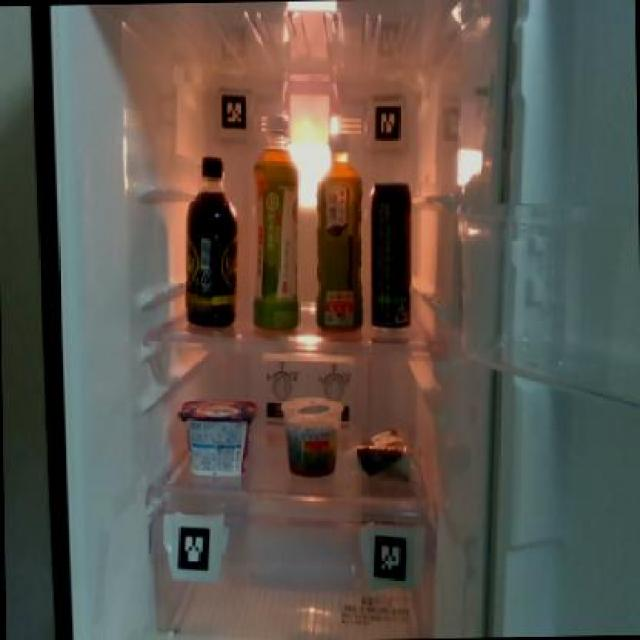coffee: (181, 152, 241, 322)
energy_drink: (368, 177, 412, 329)
pudding: (278, 389, 344, 476)
rice_ball: (350, 424, 418, 482)
tea_a: (309, 132, 363, 328)
tea_i: (248, 108, 302, 332)
yogurt: (178, 390, 258, 478)
